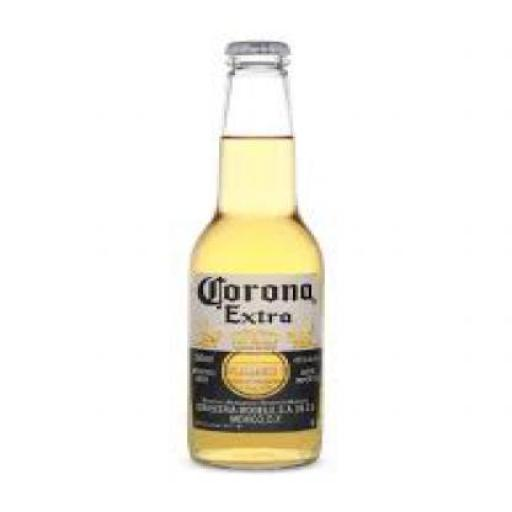glass: (183, 54, 322, 470)
metal: (222, 40, 288, 56)
